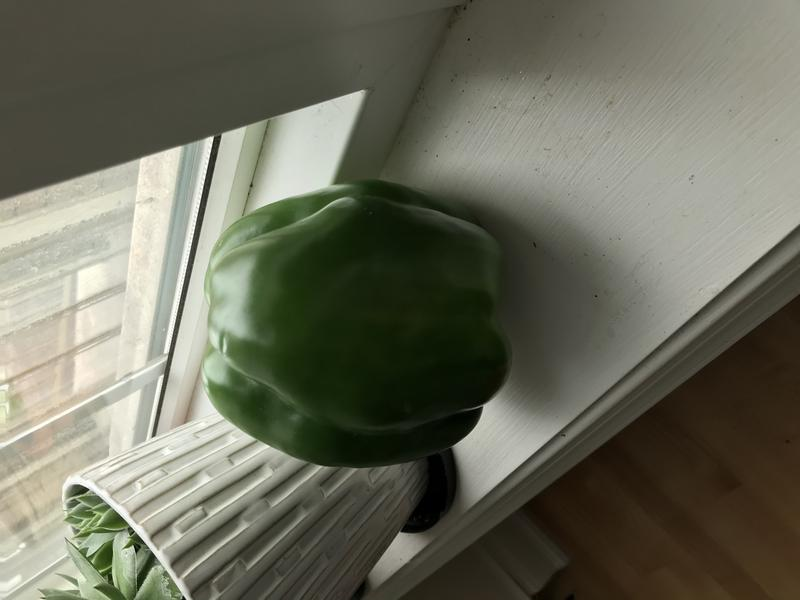green_pepper: (182, 170, 514, 469)
